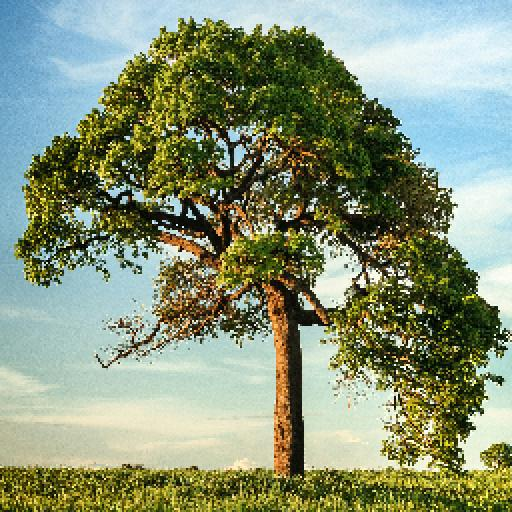trees: (14, 16, 508, 480)
